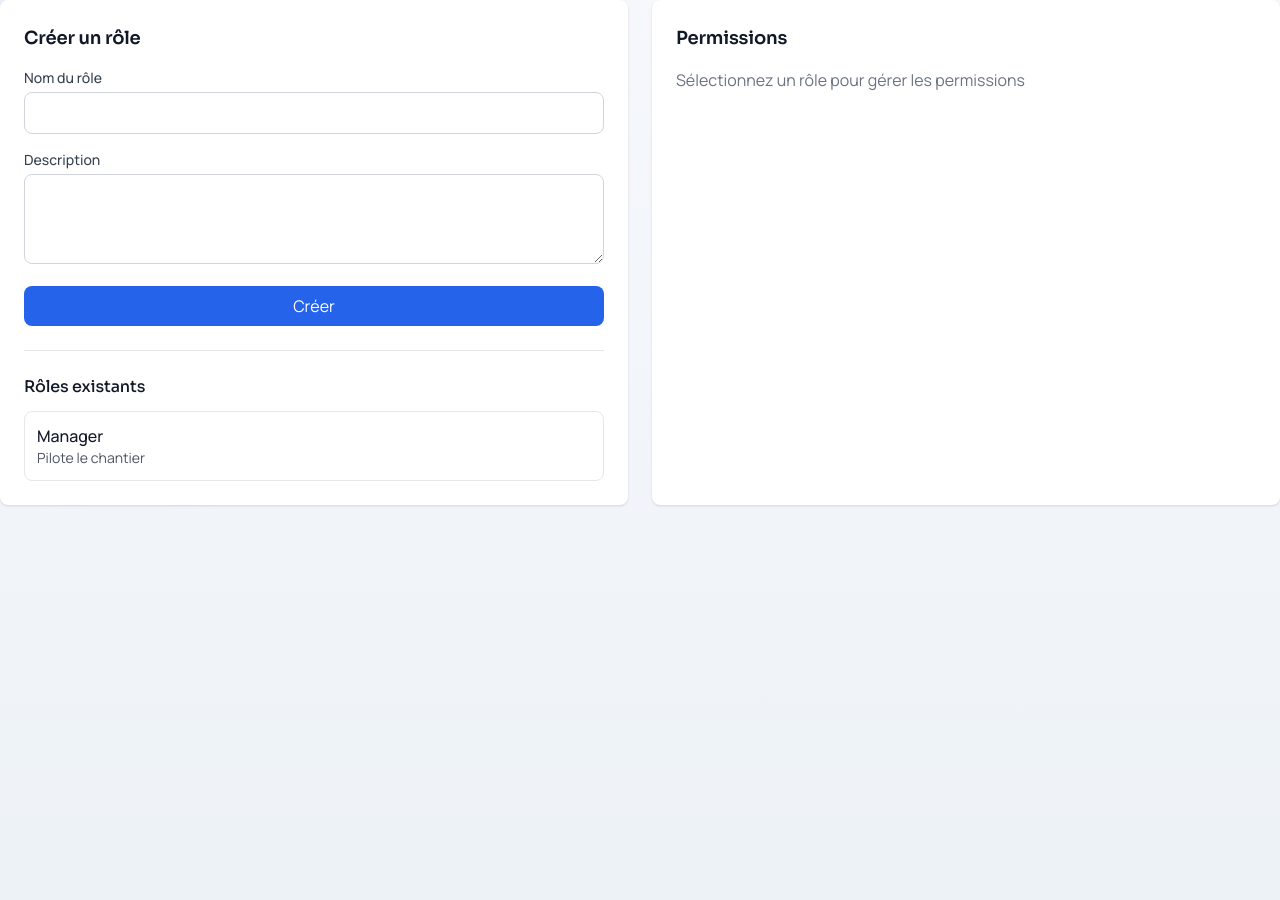
Test: RoleManagement › cree un role et journalise l action
This screenshot has width=1280, height=900.
Expected: the form "Créer" is shown, x1=24 y1=68 x2=604 y2=326
In the field: (314, 113) x1=24 y1=92 x2=604 y2=134, type "Coordinateur"
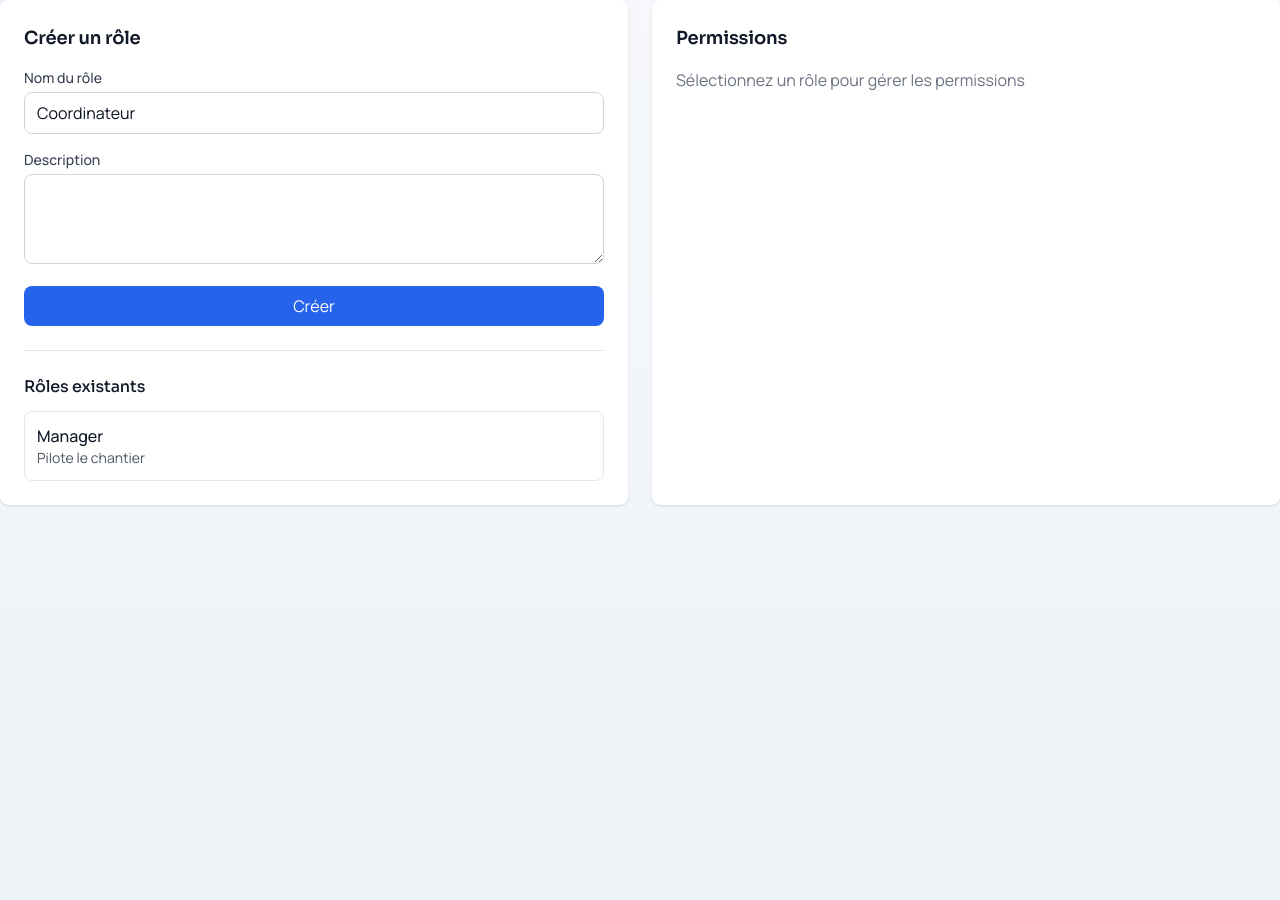
In the text box: (314, 219) x1=24 y1=174 x2=604 y2=264, type "Coordonne les équipes"
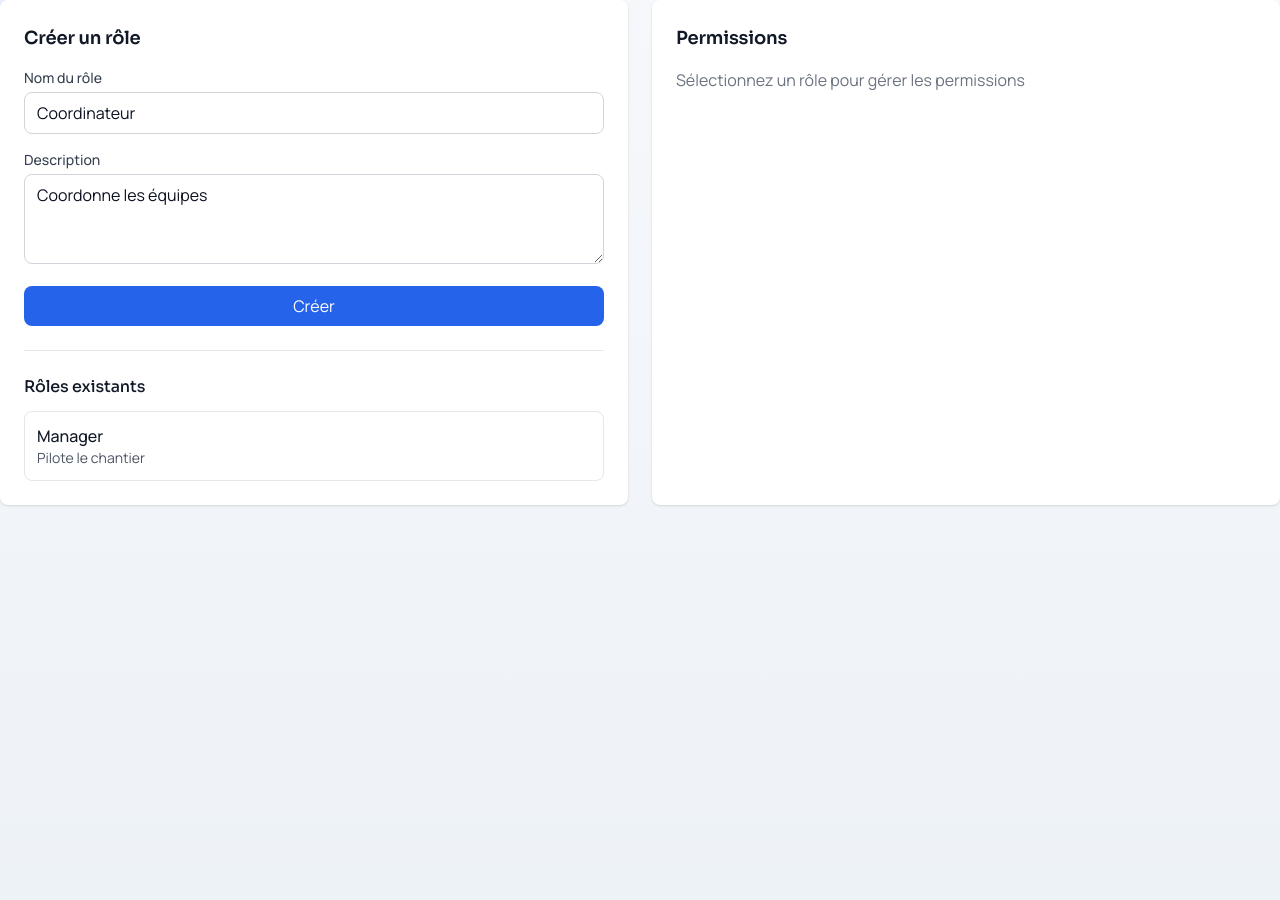
Click the button "Créer": (314, 306) x1=24 y1=286 x2=604 y2=326
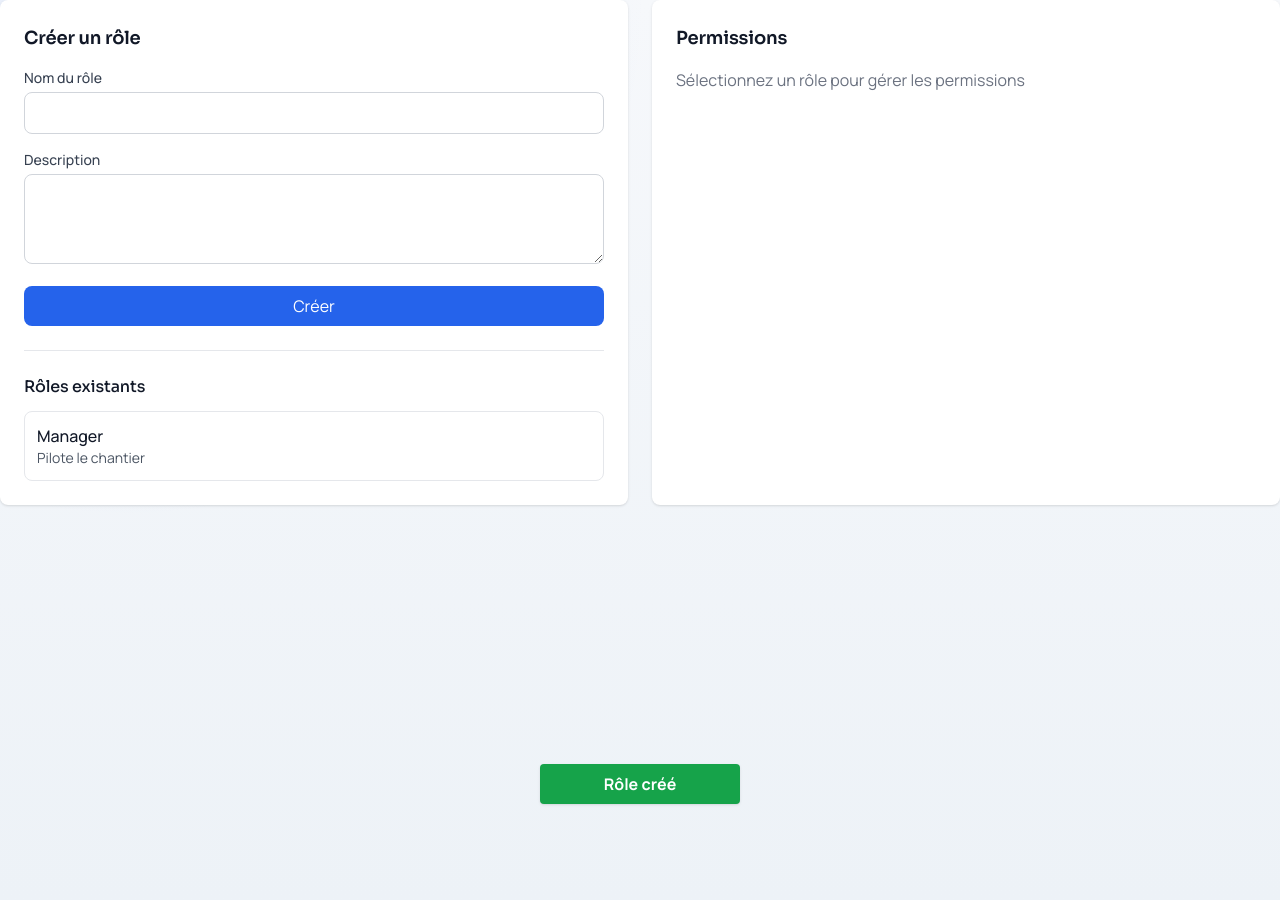
Expected: the text "Rôle créé" is shown, x1=540 y1=764 x2=740 y2=804
